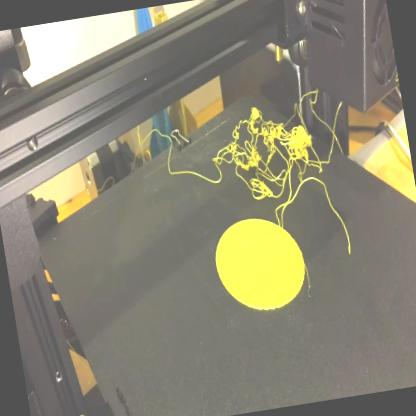fail: (206, 91, 351, 222)
